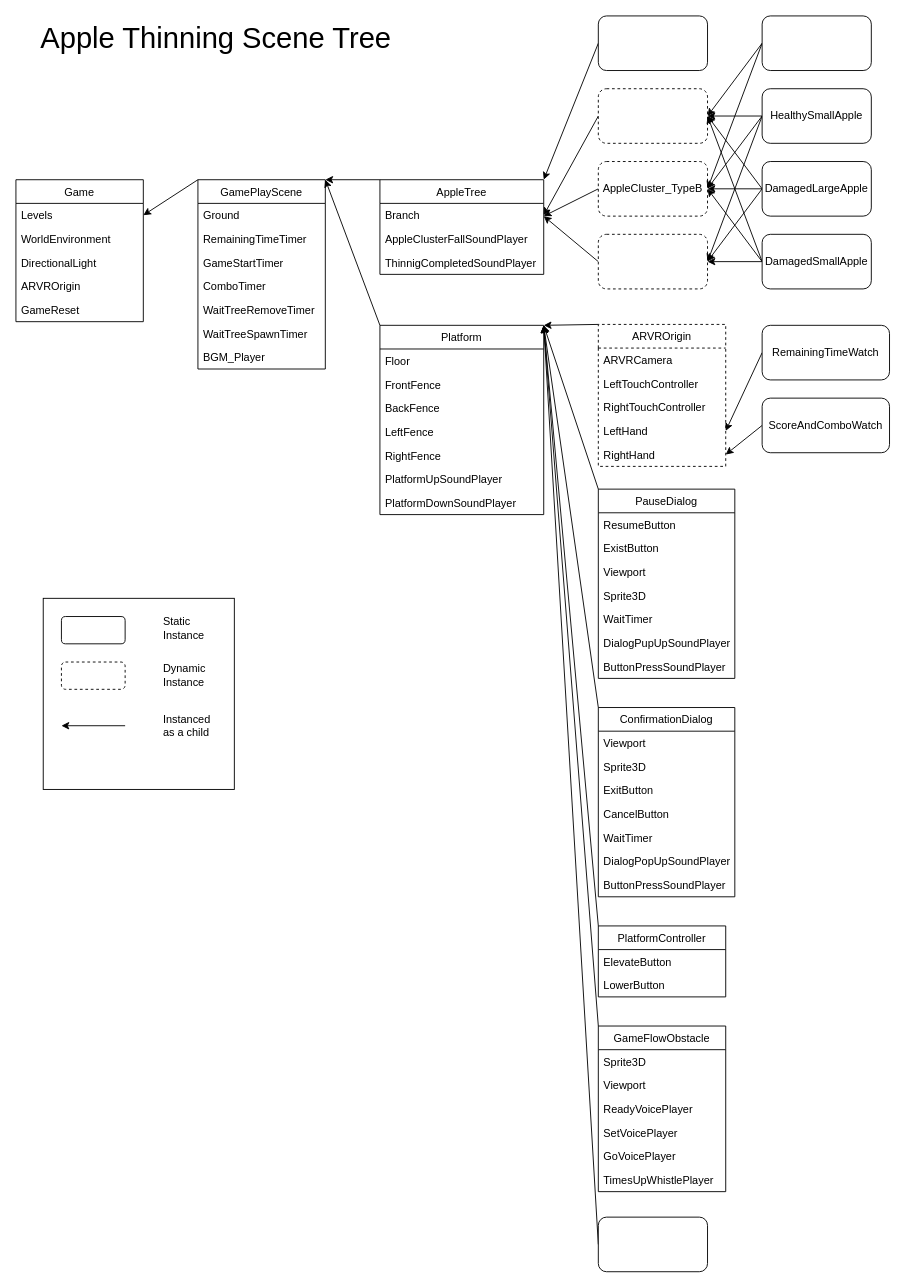
The diagram is 905 pixels wide and 1288 high, and some of its shapes have lost their labels. The shapes that lost their labels are listed below. From the top down, each one's centre as x and y in pixels, then its label:
At point (652, 43): "AppleTreeModel".
At point (816, 43): "HealthyLargeApple".
At point (652, 115): "AppleCluster_TypeA".
At point (652, 261): "AppleCluster_TypeC".
At point (652, 1244): "PauseButton".
